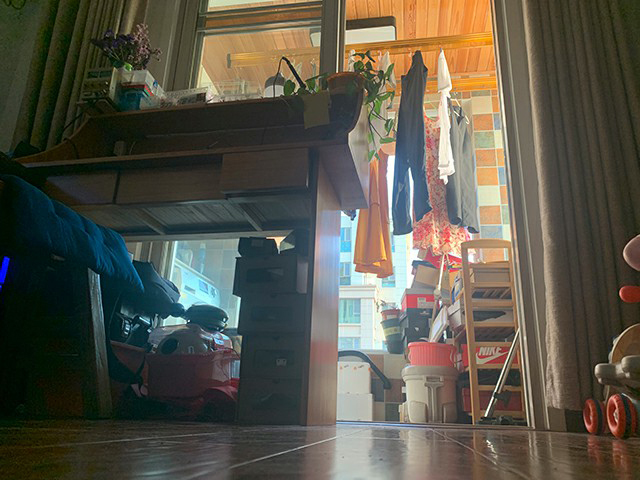curtain: (523, 1, 640, 412)
stool: (1, 170, 120, 422)
table: (17, 87, 369, 428)
